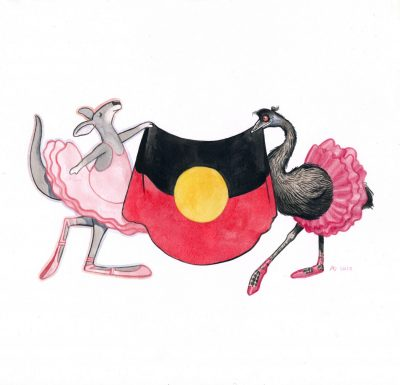aboriginal_flag: (117, 117, 283, 271)
